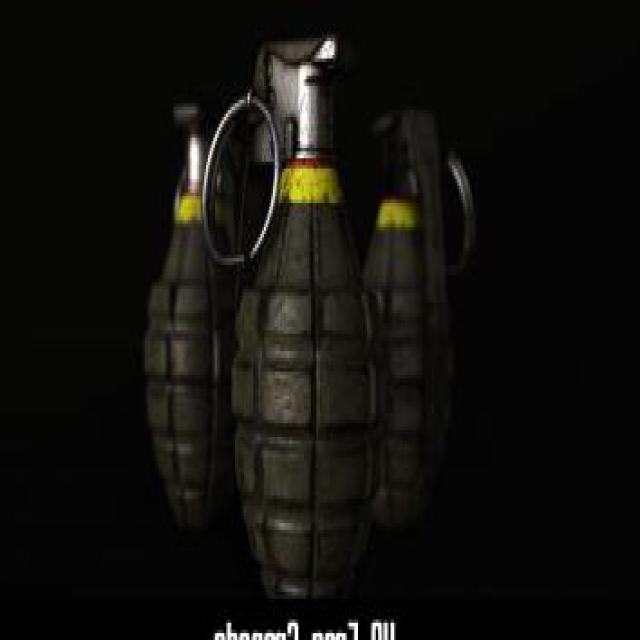grenade: (202, 32, 390, 607), (363, 104, 477, 531), (142, 98, 245, 535)
